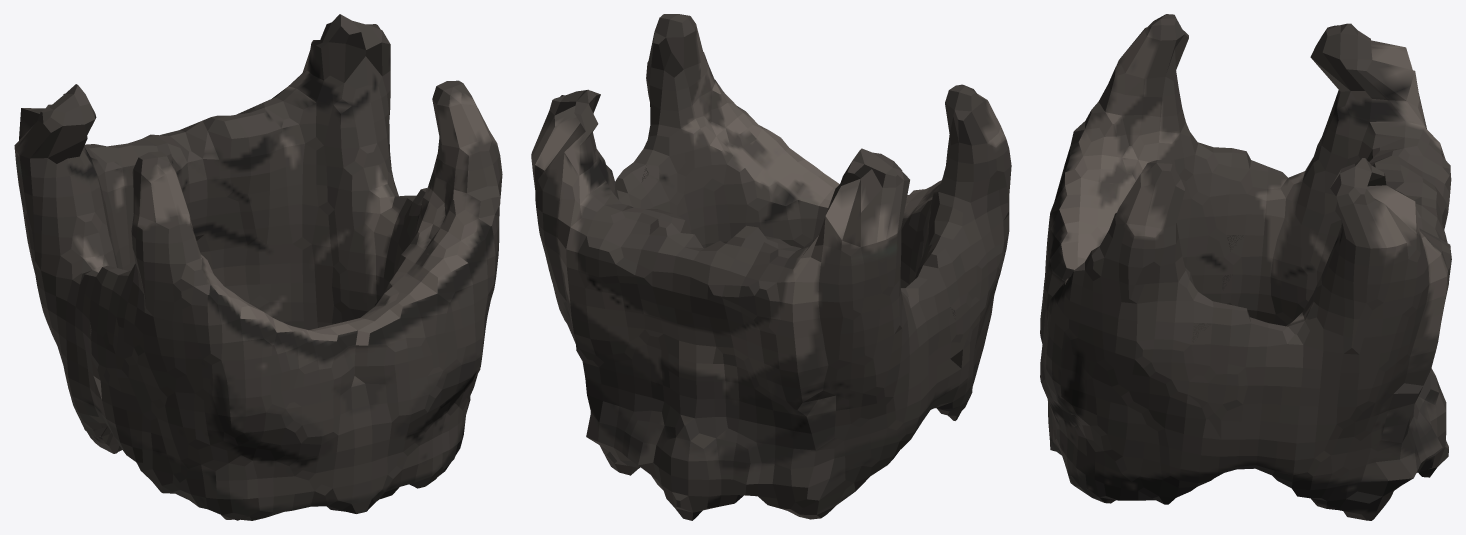
Rendered from ogre_broken_armor.glb.
3 views of the same model, side by side, from view 1: azimuth 30°, elevation 25°; view 2: azimuth 150°, elevation 25°; view 3: azimuth 270°, elevation 25° (orthographic). The views are drawn at different scales.
Parts seen in each view (by area): view 1: Armor.001, Armor; view 2: Armor, Armor.001; view 3: Armor, Armor.001.
Part boxes in pixels (x1,y1,x2,y2): Armor.001: (89,80,502,520); Armor: (14,14,426,453); Armor: (531,89,1010,520); Armor.001: (634,14,1011,420); Armor: (1187,23,1451,520); Armor.001: (1040,14,1252,504).
Bounding box in the file's own units: 0.6231 × 0.6173 × 0.5994.
Materials: 1 (1 with a texture image).
